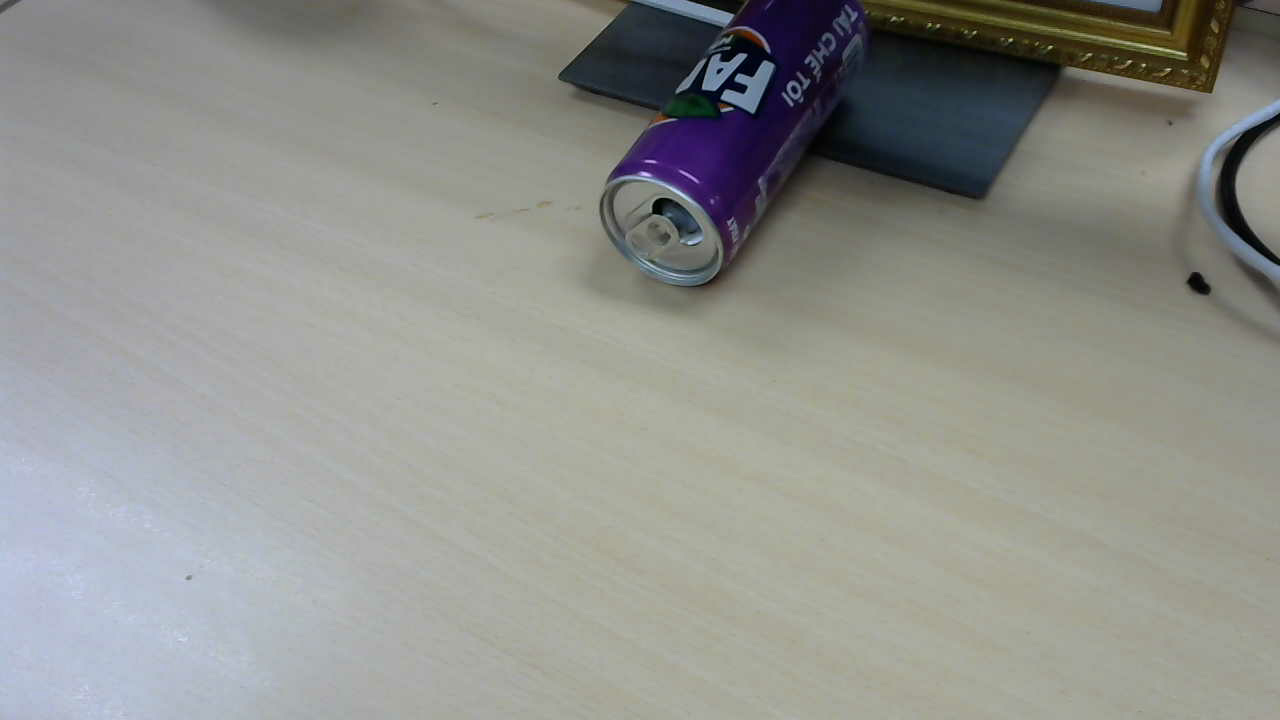Fanta: (600, 5, 888, 296)
